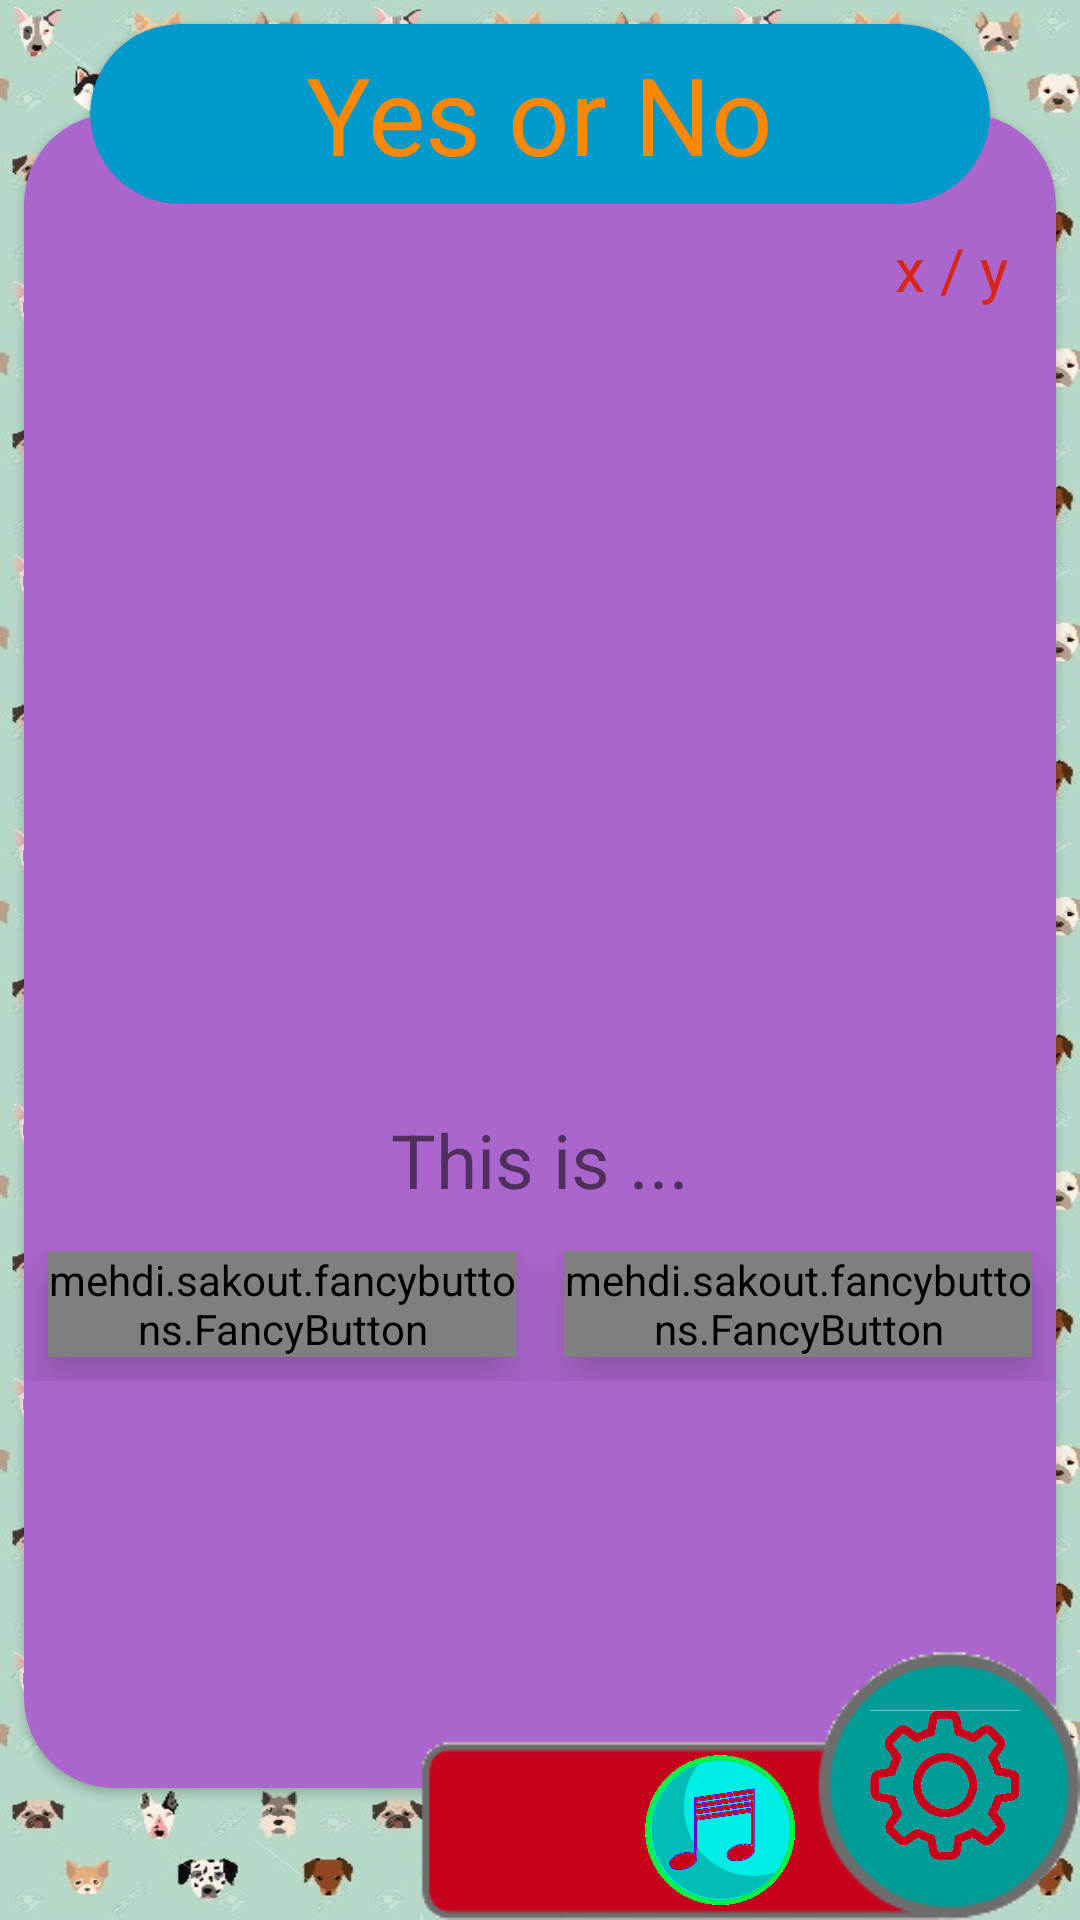

Named icons in this screenshot (1080px x 1920px) and their bounding boxes, (x1, y1, x2, y2):
music on: (645, 1755, 795, 1905)
setting: (870, 1710, 1020, 1860)
